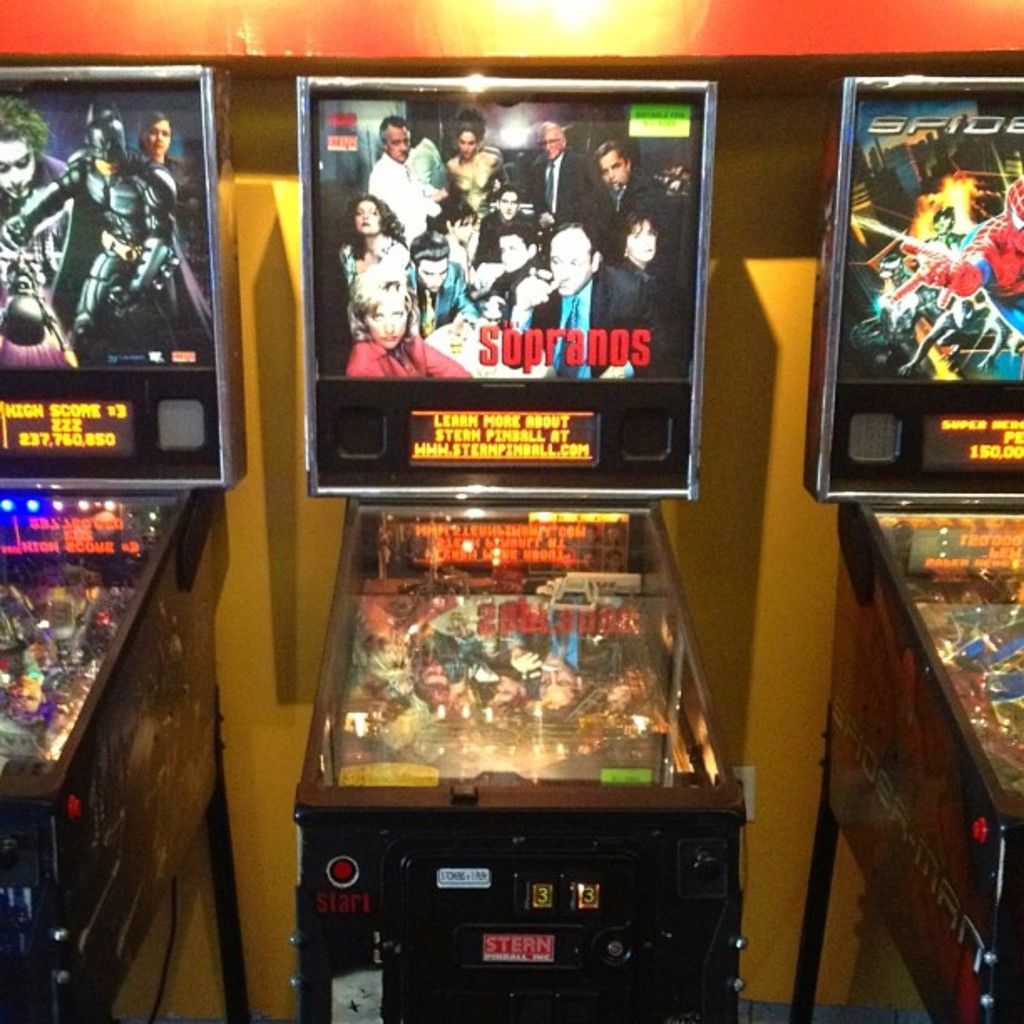Person: (340, 110, 683, 377), (1, 103, 177, 358), (876, 176, 1024, 373), (137, 111, 215, 351), (0, 104, 76, 314), (0, 110, 70, 285)
